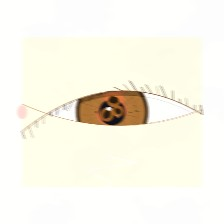foreign_body_visible: (84, 97, 129, 132)
